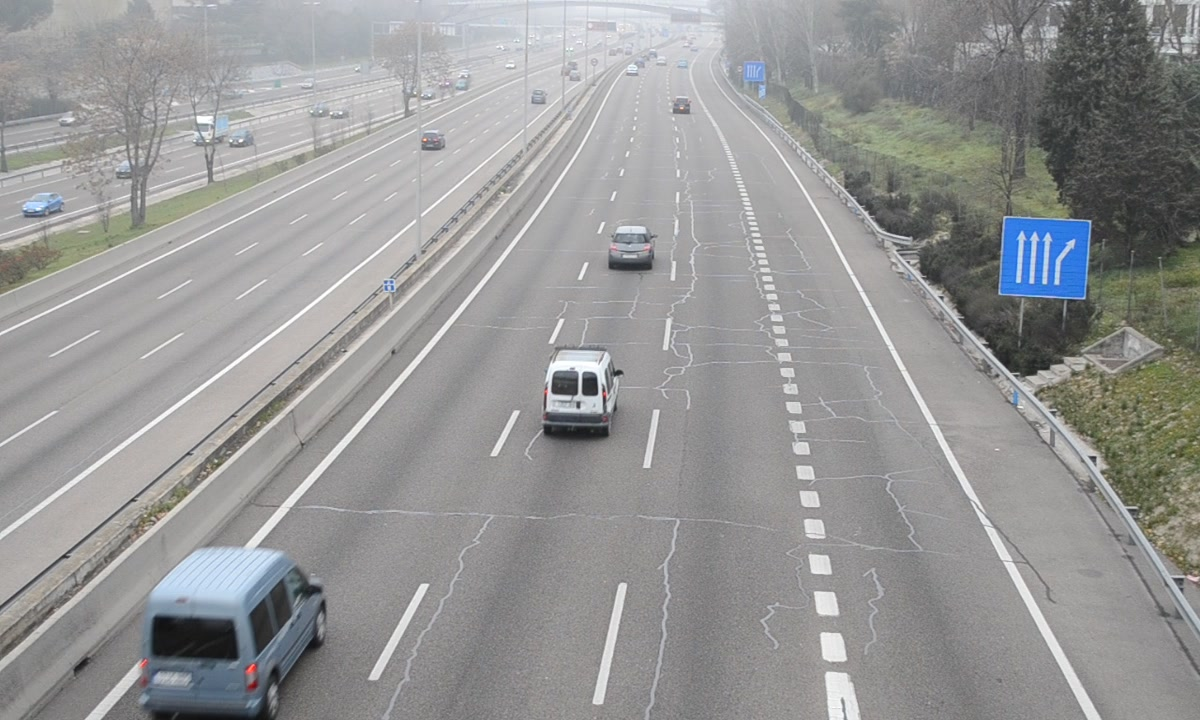car: (607, 225, 654, 267)
van: (143, 550, 327, 720), (541, 350, 616, 430)
